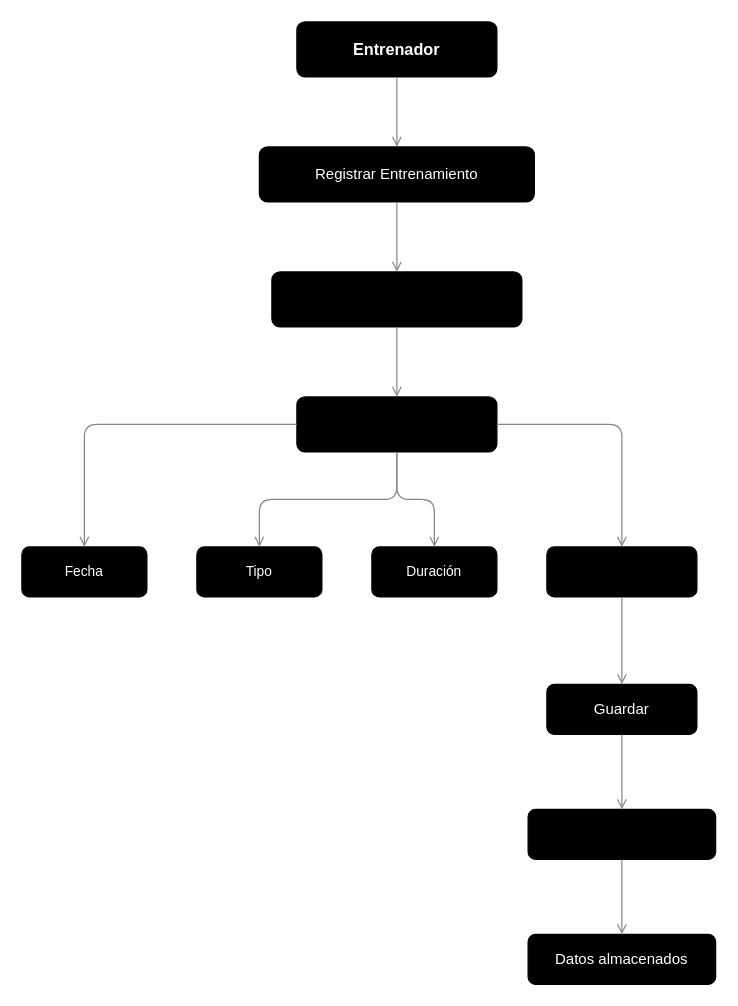
The diagram is 738 pixels wide and 1006 high, and some of its shapes have lost their labels. Each missing label, with the centre of its shape:
Cálculo automático: point (621, 833)
Ingresar Datos: point (396, 424)
Observaciones: point (621, 571)
Seleccionar Deportista: point (396, 299)
